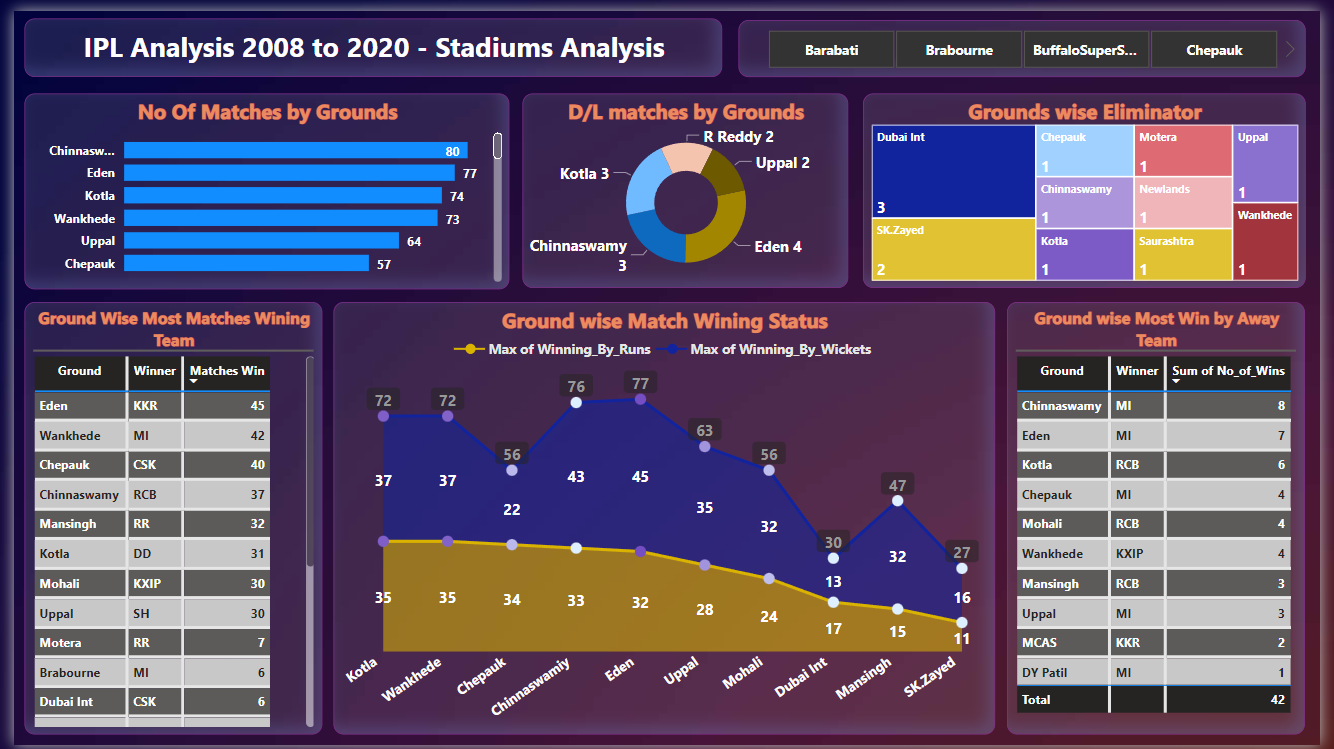

What the dashboard file says about the page in this screenshot:
{"tool":"powerbi","page":{"name":"Grounds","canvas":[1280,720],"ordinal":1},"visuals":[{"type":"textbox","box":[10,7.1,684.3,57.1],"z":0},{"type":"clusteredBarChart","title":"No Of Matches by Grounds","fields":{"Category":["Ground wise match summary.venue"],"Y":["Max(Ground wise match summary.Tot_Matches)"]},"box":[10,80.2,475.2,191.8],"z":1000},{"type":"stackedAreaChart","title":"Ground wise Match Wining Status","fields":{"Category":["Ground wise match summary.venue"],"Y":["Max(Ground wise match summary.Winning_By_Runs)","Max(Ground wise match summary.Winning_By_Wickets)"]},"box":[313.5,284.9,648.4,423.7],"z":2000},{"type":"slicer","fields":{"Values":["Ground wise match summary.venue"]},"box":[710.2,9.1,555.7,56],"z":3000},{"type":"donutChart","title":"D/L matches by Grounds ","fields":{"Category":["IPL Matches 2008-2020.venue"],"Y":["CountNonNull(IPL Matches 2008-2020.method)"]},"box":[498.1,80.2,319.2,190.4],"z":4000},{"type":"treemap","title":"Grounds wise Eliminator","fields":{"Group":["Grounds wise Eliminator.Grounds"],"Values":["Max(Grounds wise Eliminator.No_of_Eliminator)"]},"box":[831.7,80.2,433.7,190.4],"z":5000},{"type":"tableEx","title":"Ground Wise Most Matches Wining Team","fields":{"Values":["Ground wise most match win.venue","Ground wise most match win.winner","Sum(Ground wise most match win.Match_Win)"]},"box":[10,284.9,292,423.7],"z":6000},{"type":"tableEx","title":"Ground wise Most Win by Away Team","fields":{"Values":["Ground Wise Away team Win.Ground","Ground Wise Away team Win.Winner","Sum(Ground Wise Away team Win.No_of_Wins)"]},"box":[973.4,284.9,292,423.7],"z":7000}]}

Visuals, with their boxes in screenshot pixels (x1, y1, x2, y2), scaled from the page's 1280x720 canvas onto the 1334x749 screenshot:
textbox: 10 7 724 67
"No Of Matches by Grounds" clusteredBarChart: 10 83 506 283
"Ground wise Match Wining Status" stackedAreaChart: 327 296 1002 737
slicer - Ground wise match summary.venue: 740 9 1319 68
"D/L matches by Grounds " donutChart: 519 83 852 281
"Grounds wise Eliminator" treemap: 867 83 1319 281
"Ground Wise Most Matches Wining Team" tableEx: 10 296 315 737
"Ground wise Most Win by Away Team" tableEx: 1014 296 1319 737
